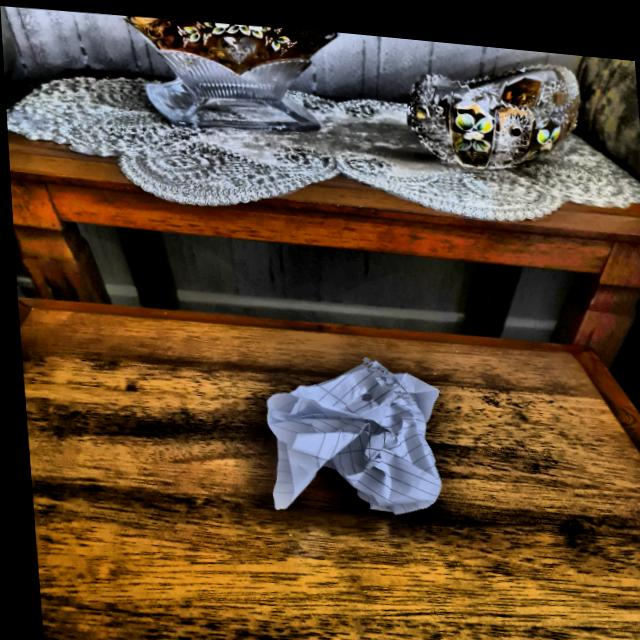Paper: (255, 341, 448, 517)
